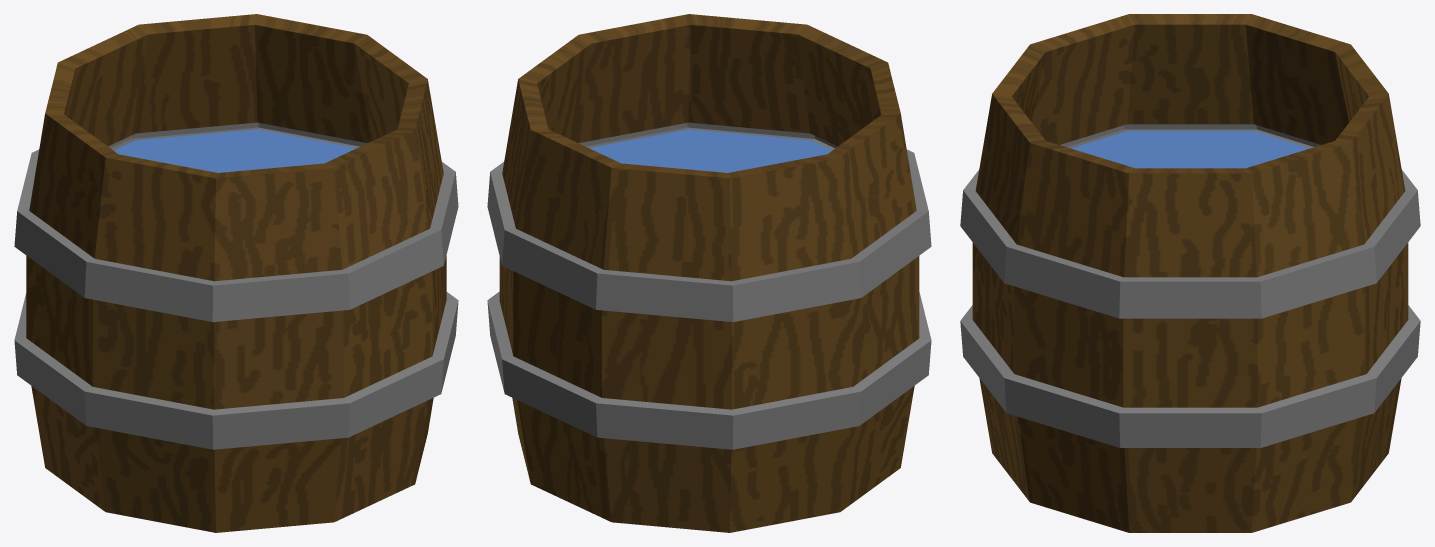
Rendered from barrel_water.fbx.
3 views of the same model, side by side, from view 1: azimuth 30°, elevation 25°; view 2: azimuth 150°, elevation 25°; view 3: azimuth 270°, elevation 25° (orthographic).
Parts seen in each view (by area): view 1: barrel_water; view 2: barrel_water; view 3: barrel_water.
Boxes of the visible parts, left/top/right/bottom form: barrel_water: left=14, top=14, right=458, bottom=532; barrel_water: left=487, top=14, right=931, bottom=532; barrel_water: left=960, top=14, right=1420, bottom=532.
Size of the model in its own units: 161 by 146 by 169.
